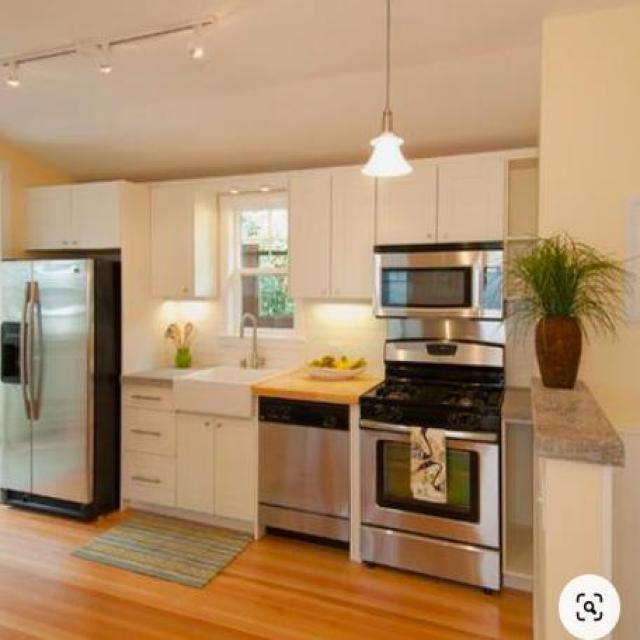dishwasher: (253, 386, 355, 549)
